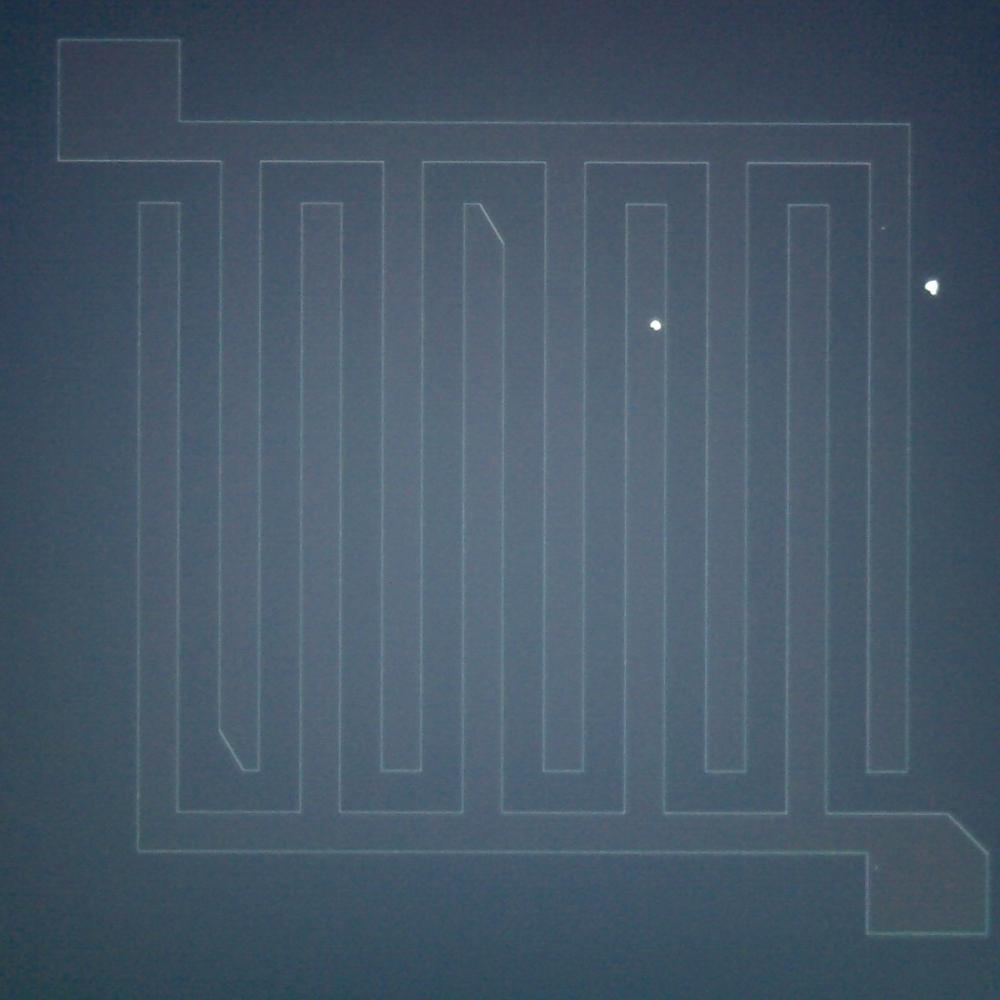dot: (924, 280, 938, 295), (650, 320, 662, 331), (873, 865, 879, 871), (880, 226, 886, 232)
